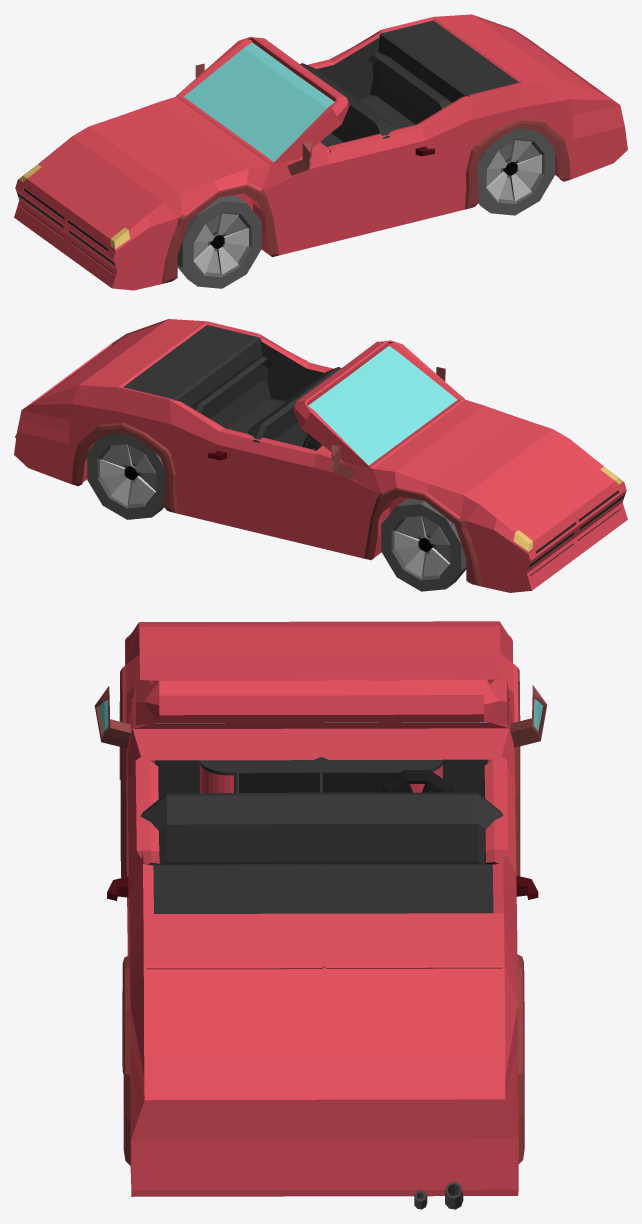
Rendered from Sportss CARR.fbx.
3 views of the same model, one above another, from view 1: azimuth 30°, elevation 25°; view 2: azimuth 150°, elevation 25°; view 3: azimuth 270°, elevation 25° (orthographic). The views are drawn at different scales.
Parts seen in each view (by area): view 1: Car, Wheel; view 2: Car, Wheel; view 3: Car, Steering Wheel.
Part boxes in pixels (x1,y1,x2,y2): Car: [14, 14, 627, 290]; Wheel: [177, 128, 554, 288]; Car: [14, 319, 627, 592]; Wheel: [87, 432, 466, 591]; Car: [94, 621, 547, 1196]; Steering Wheel: [380, 770, 453, 792].
Size of the model in its own units: 443 by 124 by 164.
